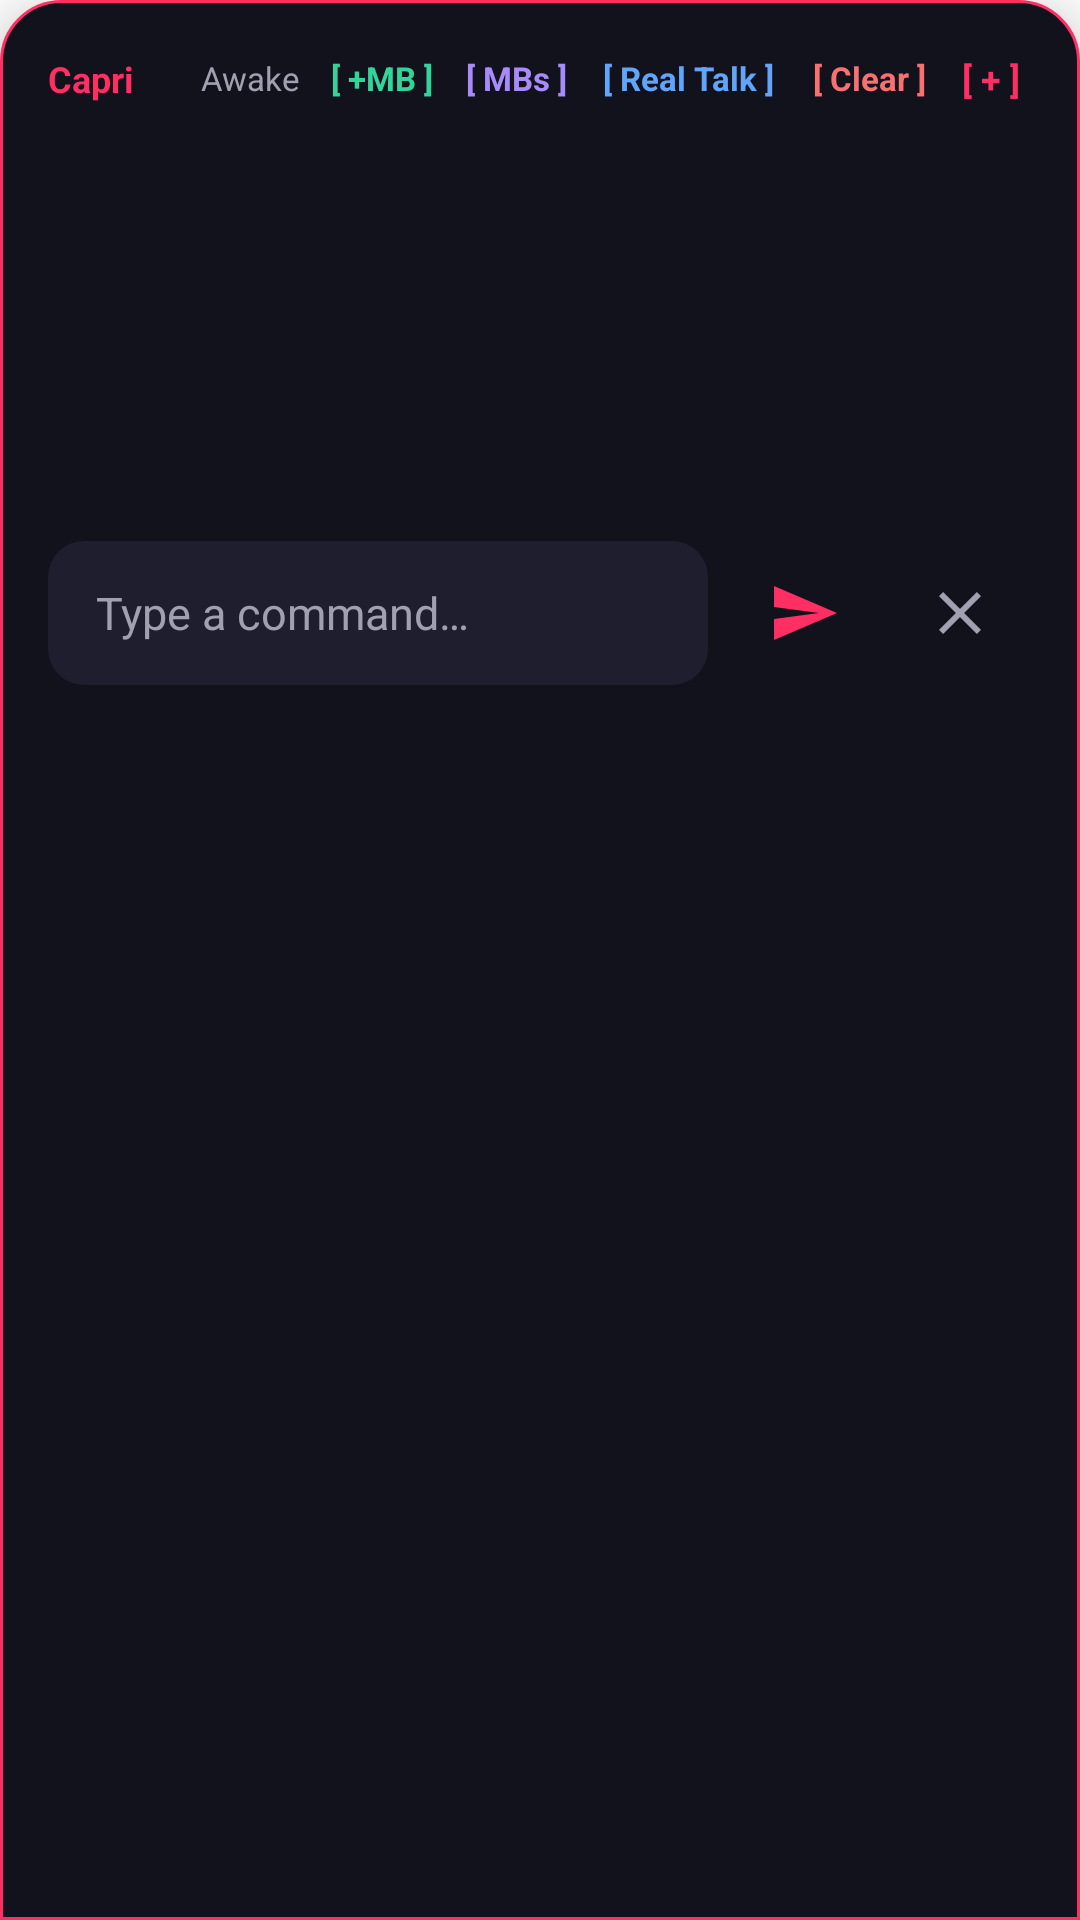

Named icons in this screenshot (1080×1920) and their centers, [x,y]:
Close: [960,613]
Send: [805,613]
